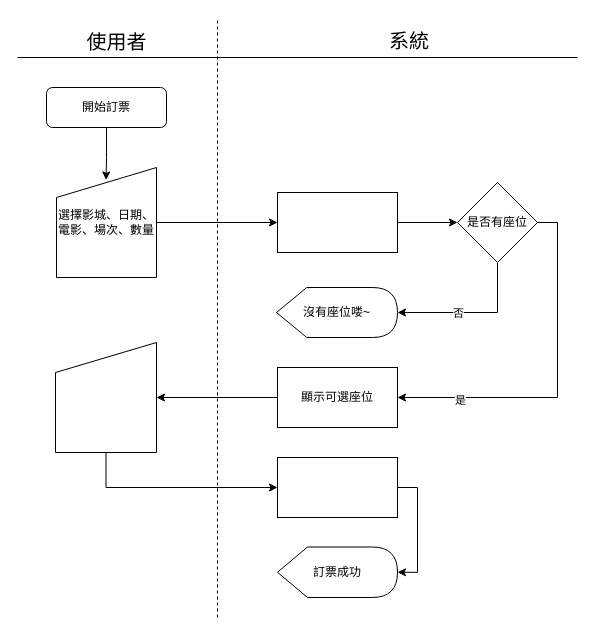
Some shapes in this 596 by 636 pixel diagram are drawn without their labels. Each missing label, with the centre of its shape:
執行訂票: pixel 337 487
查詢空位處理: pixel 337 222
選擇座位: pixel 105 397
